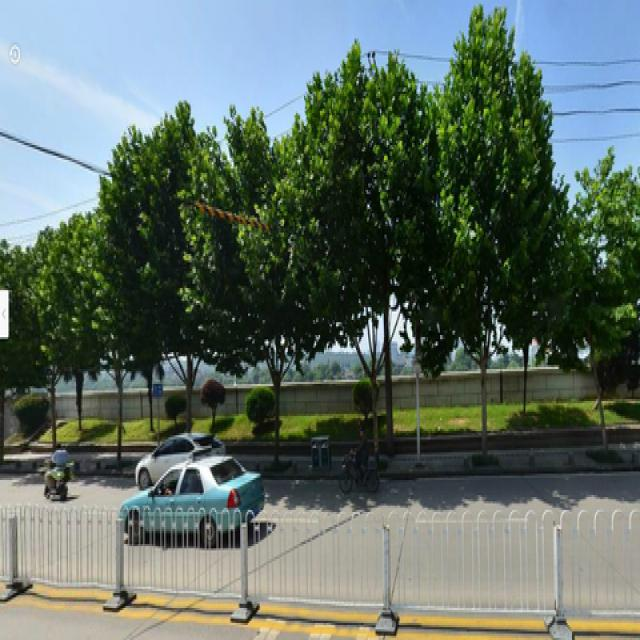meta: (304, 77, 416, 450), (434, 43, 530, 452), (210, 137, 294, 450), (142, 139, 206, 433)
